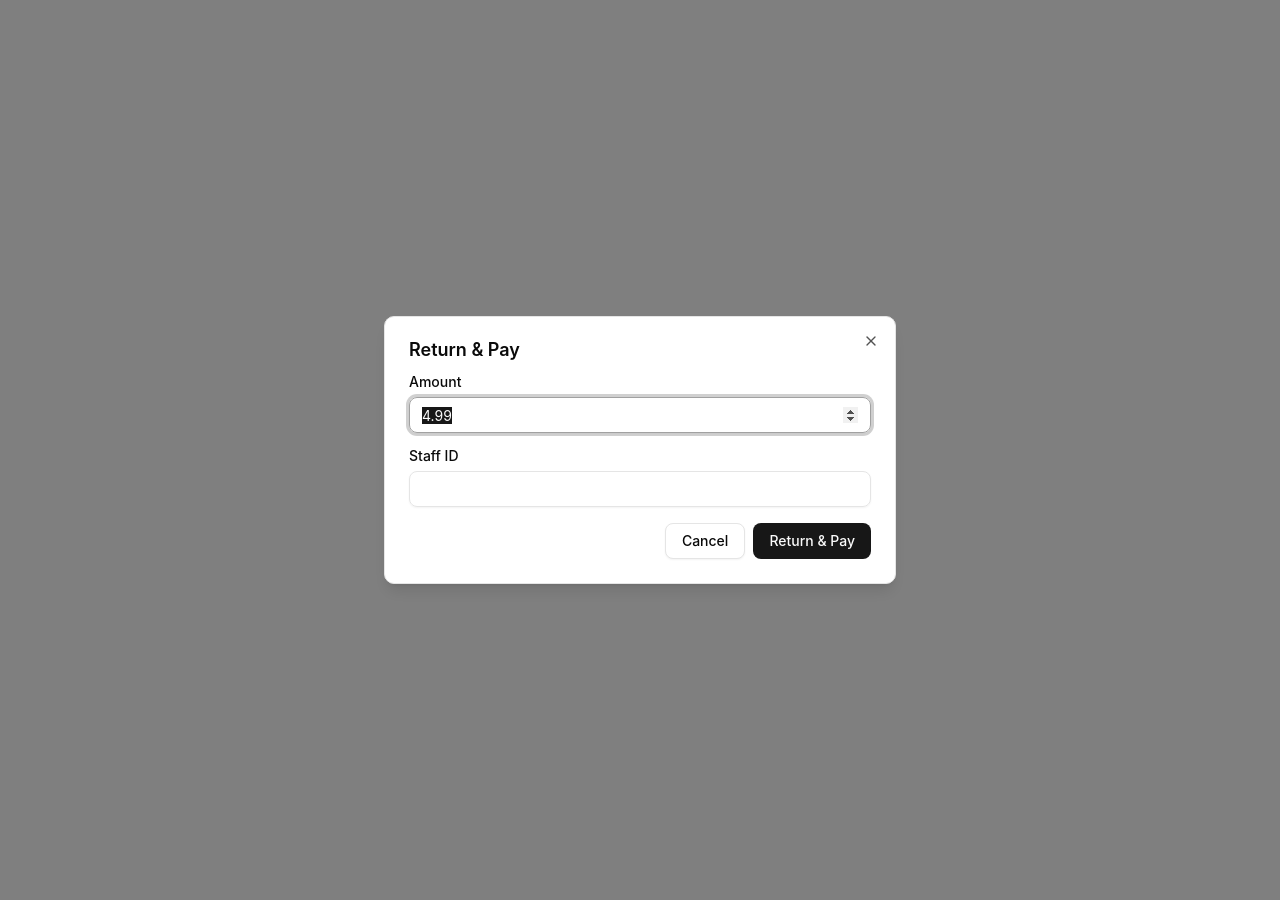
ReturnPayModal › shows validation error for zero amount
Step 1. Replace the text in the number field labelled "Amount" with "0" → [640, 415], box [409, 397, 871, 433]
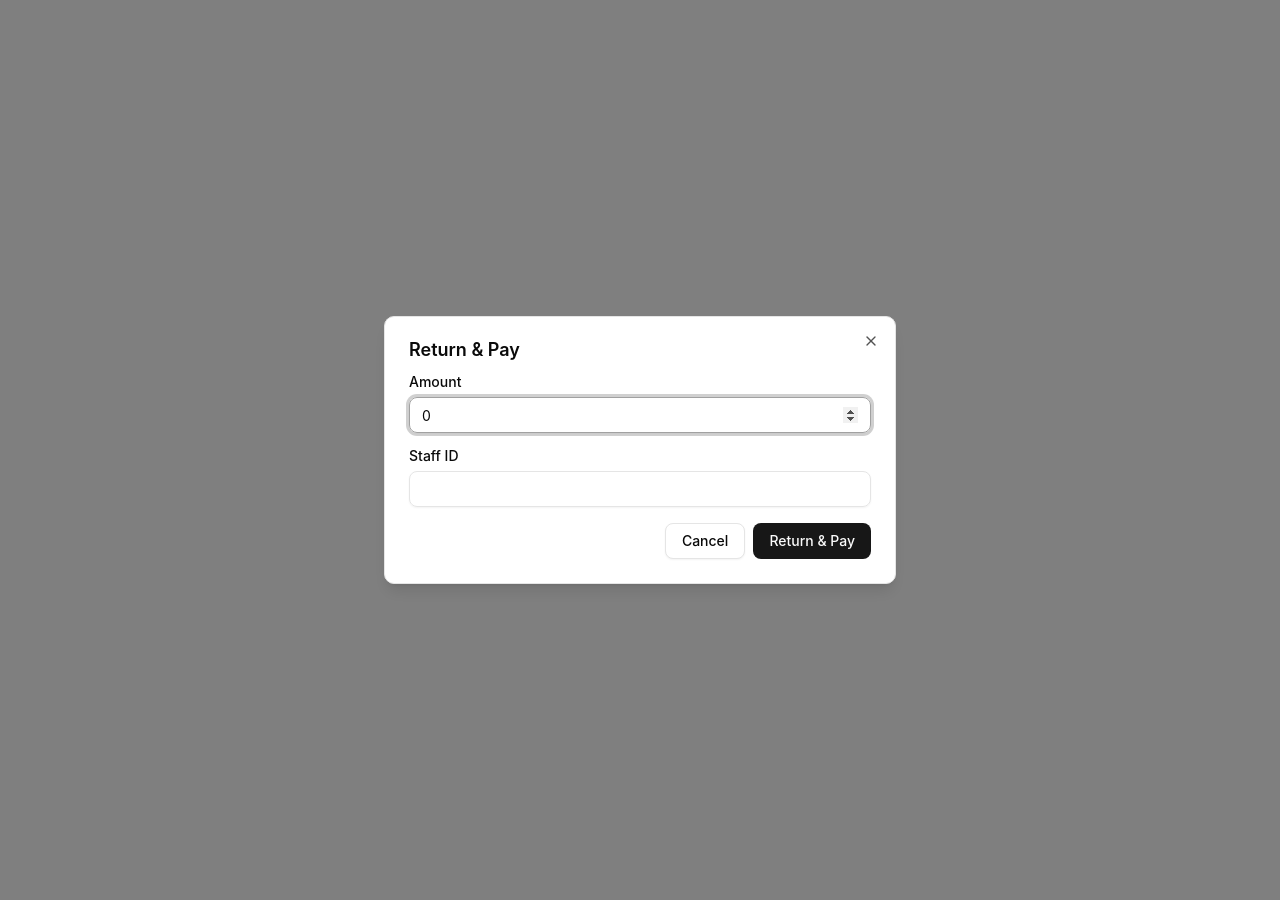
Step 2. Type "1" into the number field labelled "Staff ID" → [640, 489], box [409, 471, 871, 507]
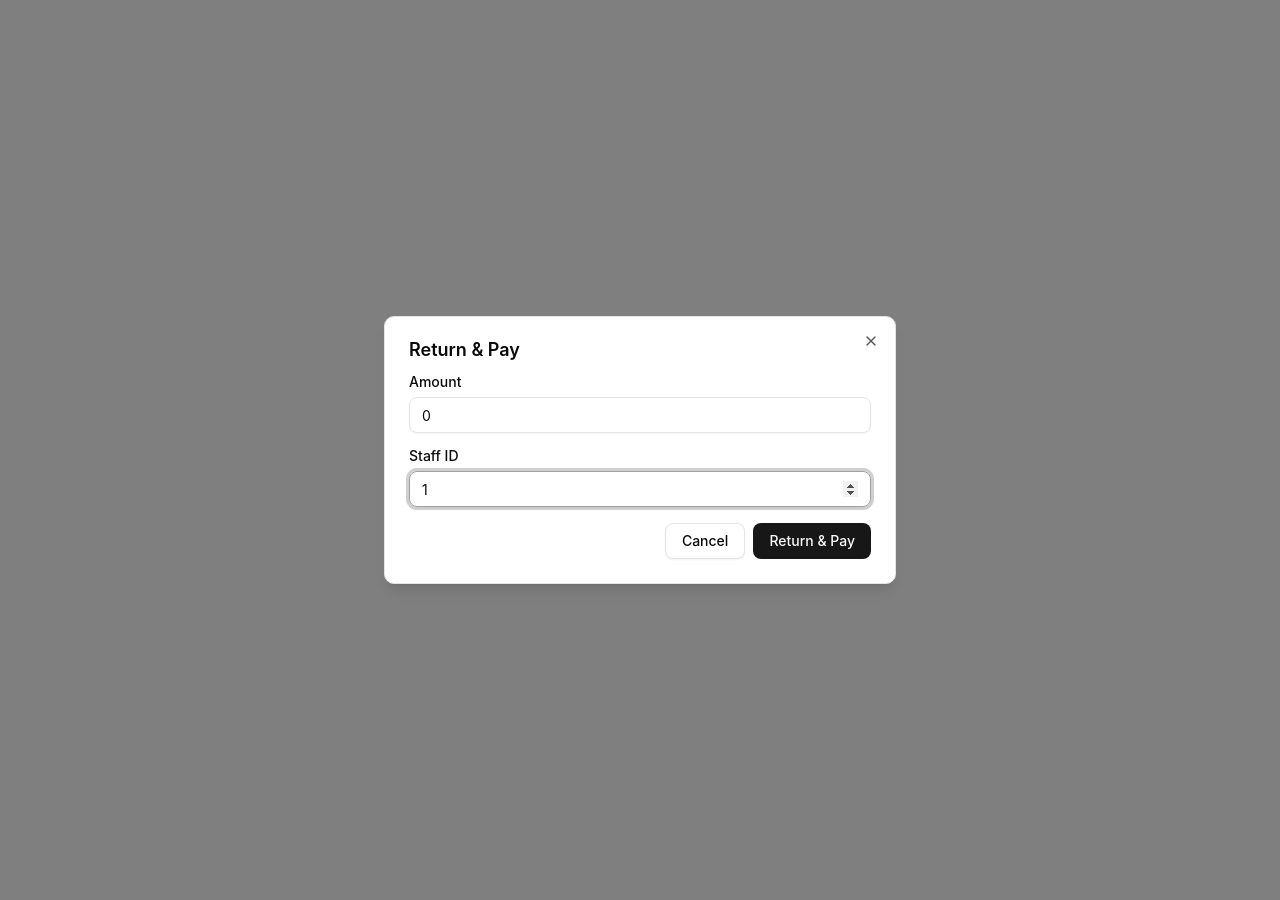
Step 3. Click the button "Return & Pay" → [812, 541], box [753, 523, 871, 559]
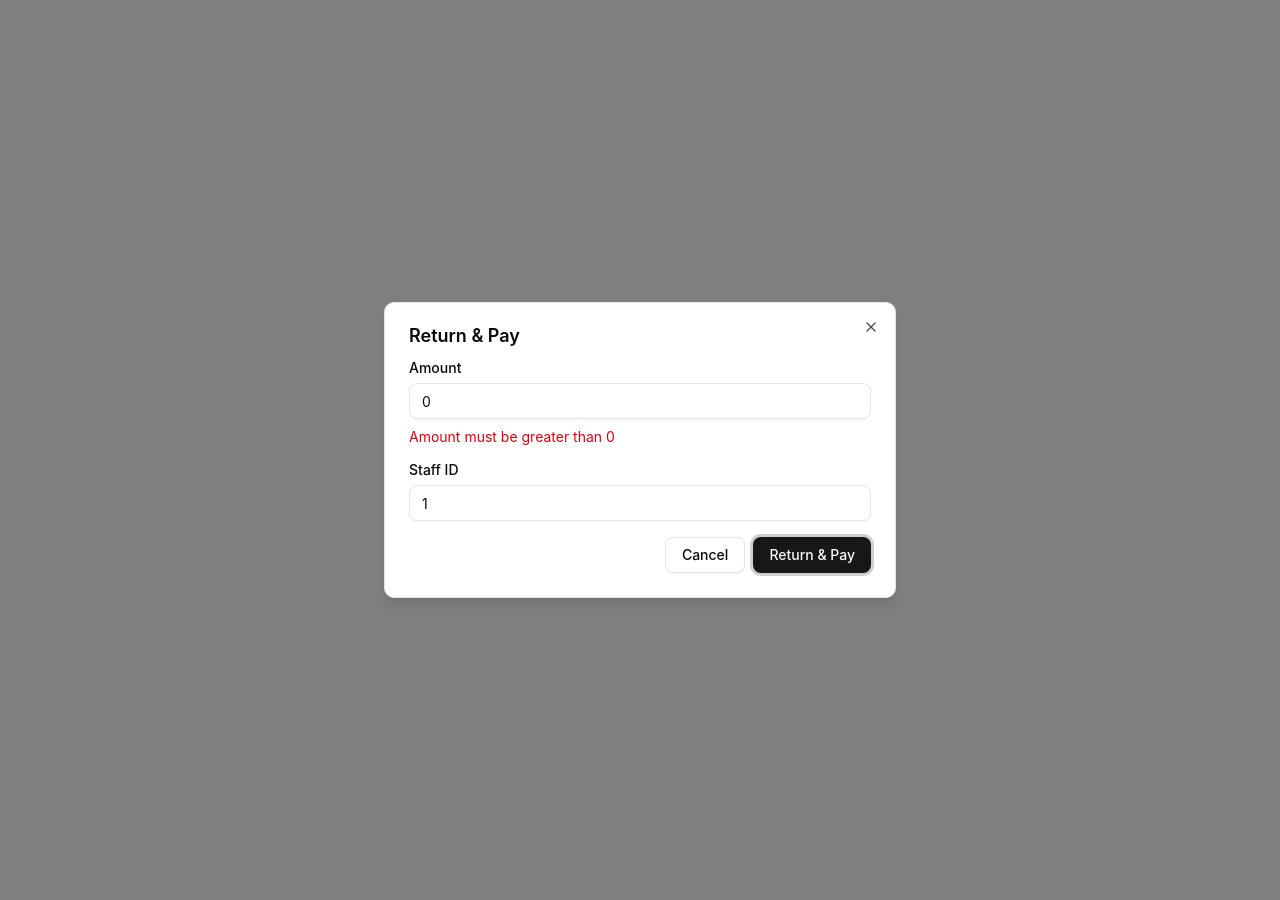
Expected: the text "Amount must be greater than 0" is shown, [409, 428, 615, 445]
